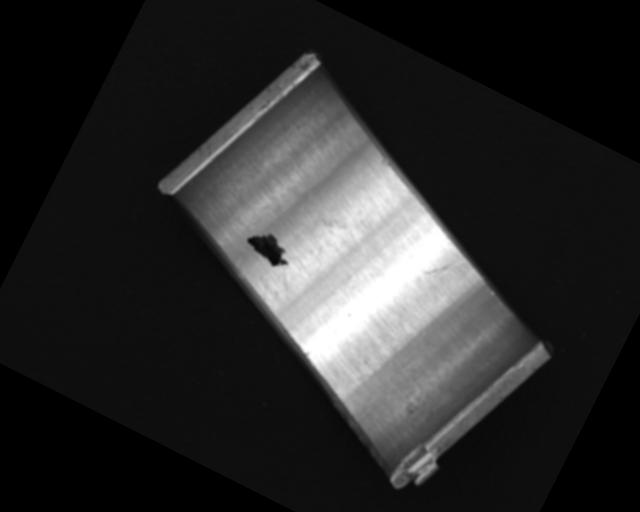blot: (279, 195, 351, 255), (239, 223, 298, 274)
bruise: (378, 154, 390, 167), (302, 348, 313, 359)
nick: (422, 241, 467, 288)
